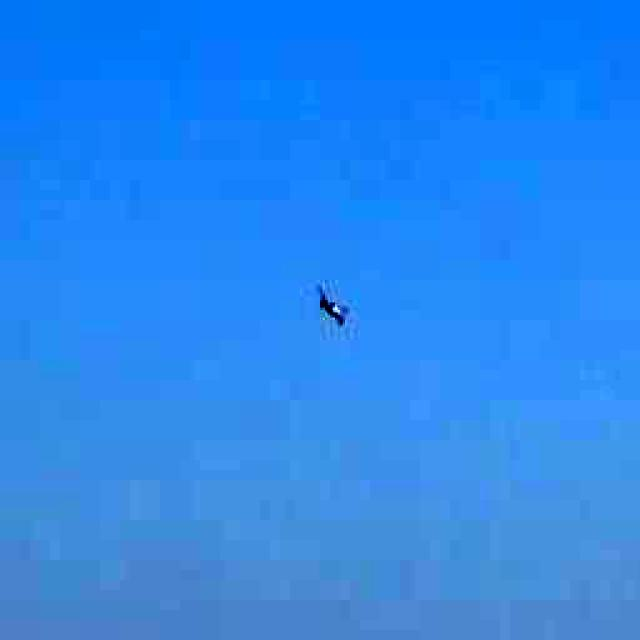bird: (291, 280, 366, 348)
